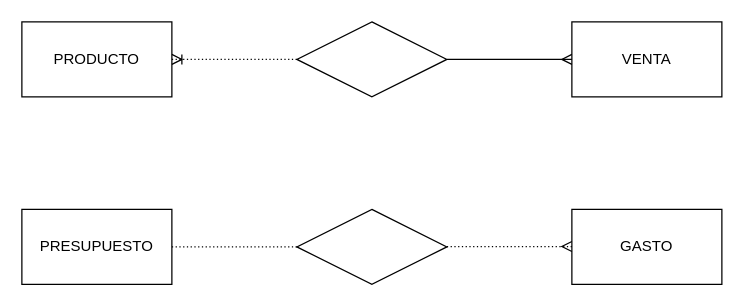
Image size: 744x306. Some labels were removed from this diagram. The shapes that lost their labels are listed below. From the top down, each one's box as (x1, y1, x2, y2) in pixels, then its label:
(296, 21, 447, 97): Tener
(296, 208, 447, 284): Cubrir
